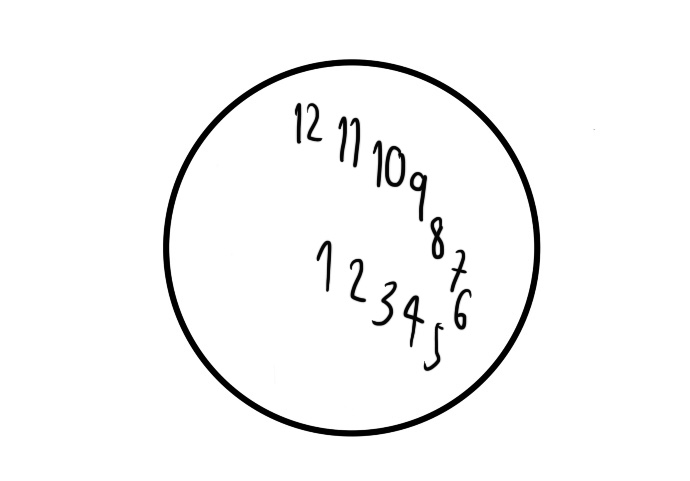eight: (427, 213, 448, 262)
eleven: (335, 112, 365, 170)
five: (422, 316, 446, 375)
four: (399, 292, 424, 347)
nine: (408, 166, 428, 221)
one: (315, 230, 335, 293)
seven: (447, 245, 468, 291)
six: (454, 285, 472, 332)
ten: (371, 135, 408, 191)
three: (369, 277, 398, 326)
twelve: (290, 95, 326, 146)
two: (348, 255, 368, 305)
